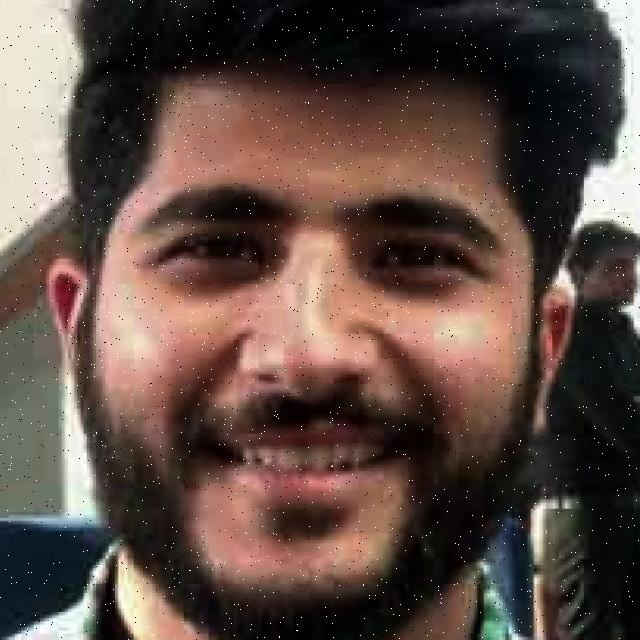puffy_eyes: (163, 256, 266, 281), (369, 264, 476, 288)
